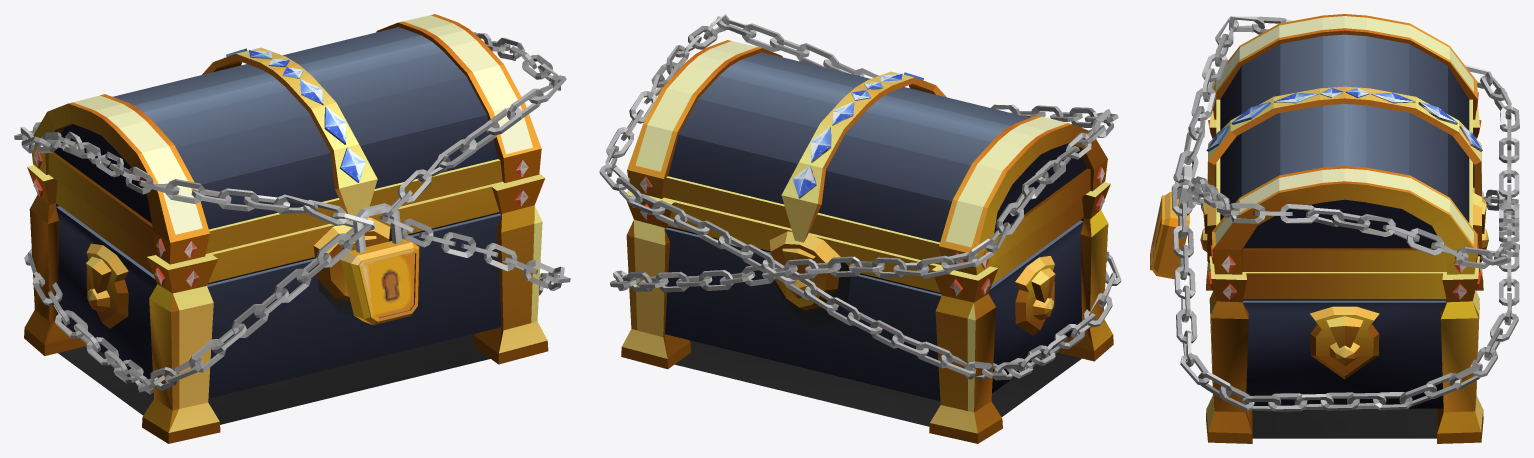
File: ChestwChain.fbx
3 renders of one model, left to right at view 1: azimuth 30°, elevation 25°; view 2: azimuth 150°, elevation 25°; view 3: azimuth 270°, elevation 25°, orthographic. The views are drawn at different scales.
Parts seen in each view (by area): view 1: ChestwChain; view 2: ChestwChain; view 3: ChestwChain.
Part boxes in pixels (x1,y1,x2,y2): ChestwChain: [14, 14, 570, 443]; ChestwChain: [599, 14, 1121, 443]; ChestwChain: [1150, 14, 1519, 443].
Bounding box in the file's own units: 1537 × 951 × 1204.
